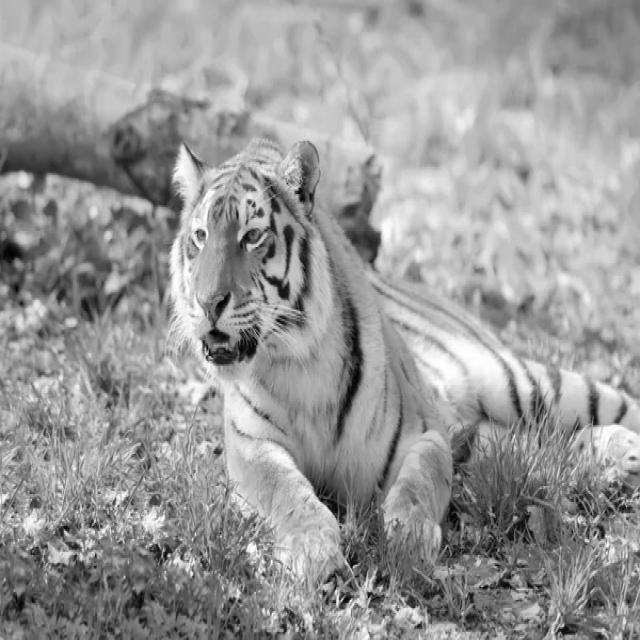Animal: (170, 139, 640, 575)
